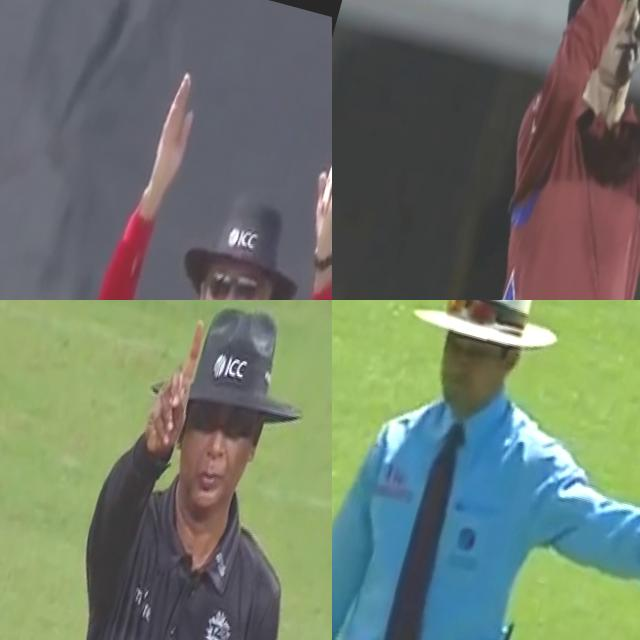No_Ball: (332, 300, 640, 640)
Out: (21, 300, 332, 640)
Six: (31, 42, 332, 300), (409, 0, 640, 300)
